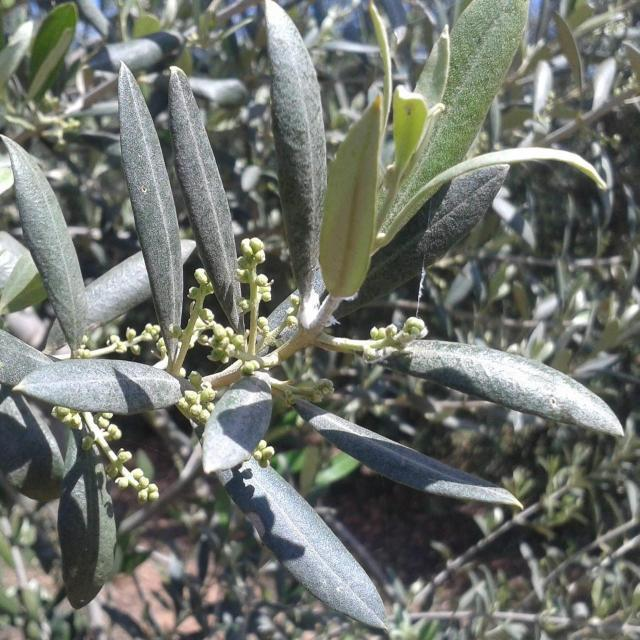Psyllid: (360, 317, 428, 363), (297, 286, 357, 336)
